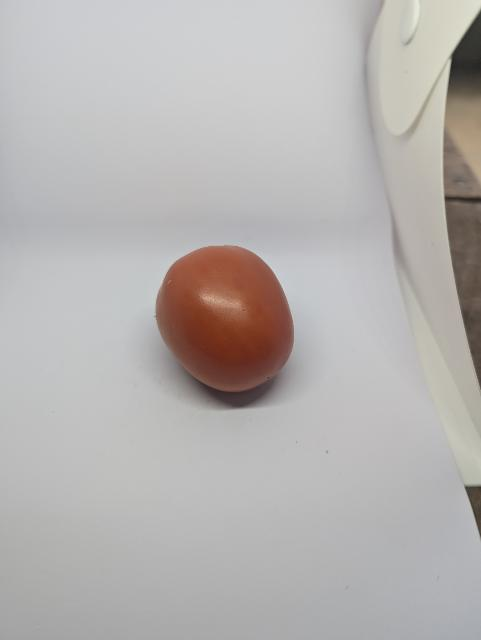red: (151, 240, 305, 409)
